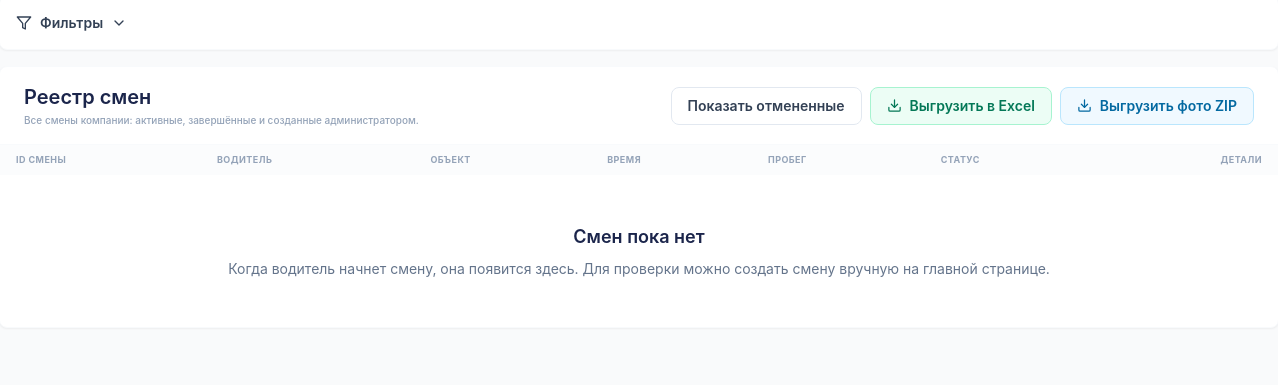
Test case: handles excel server paywall as stale entitlement, refreshing without a generic error
Expected: the heading "Реестр смен" is shown, [24, 85, 151, 109]
Click the button "Выгрузить в Excel" at (961, 106), box [870, 86, 1052, 124]
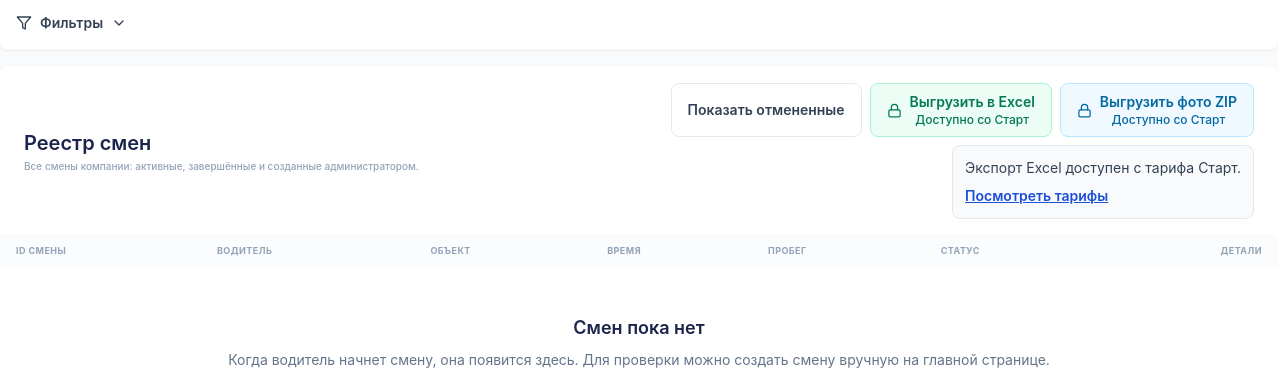
Expected: the button "Посмотреть тарифы" is shown, [965, 186, 1108, 206]
Expected: the button "Выгрузить в Excel Доступно со Старт" is shown, [870, 83, 1052, 137]
